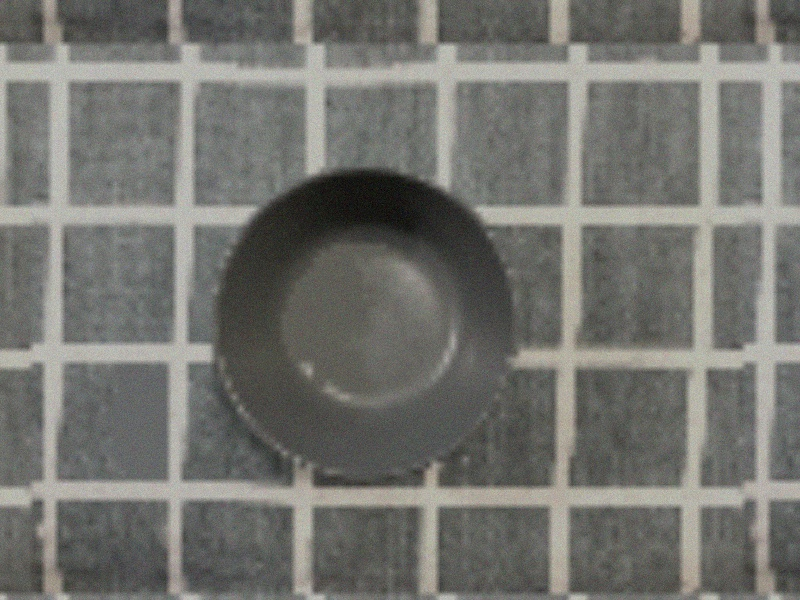bowl_big: (191, 160, 527, 492)
